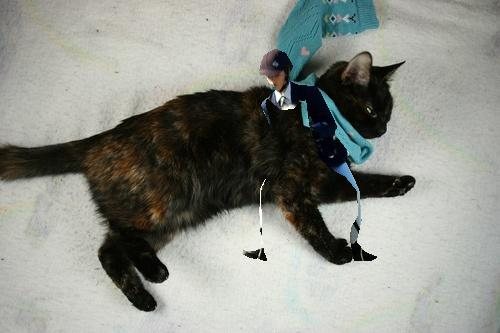tampered: (243, 50, 377, 261)
